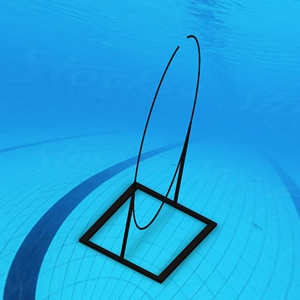circle: (78, 33, 222, 287)
